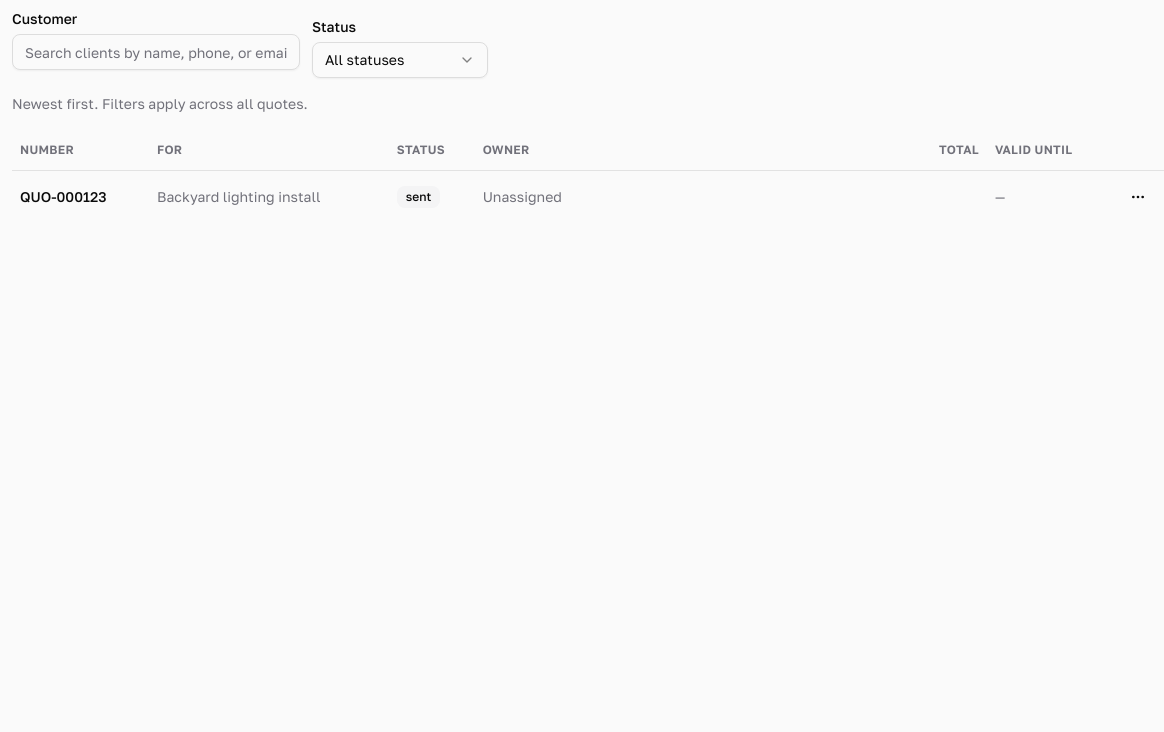
Test: QuotesList editing and deleting › offers edit and delete on a quote the customer already has
Expected: the button "QUO-000123" is shown, [20,186,106,206]
Click the button named "Actions". click: [1138, 196]
box: [1120,178,1156,214]
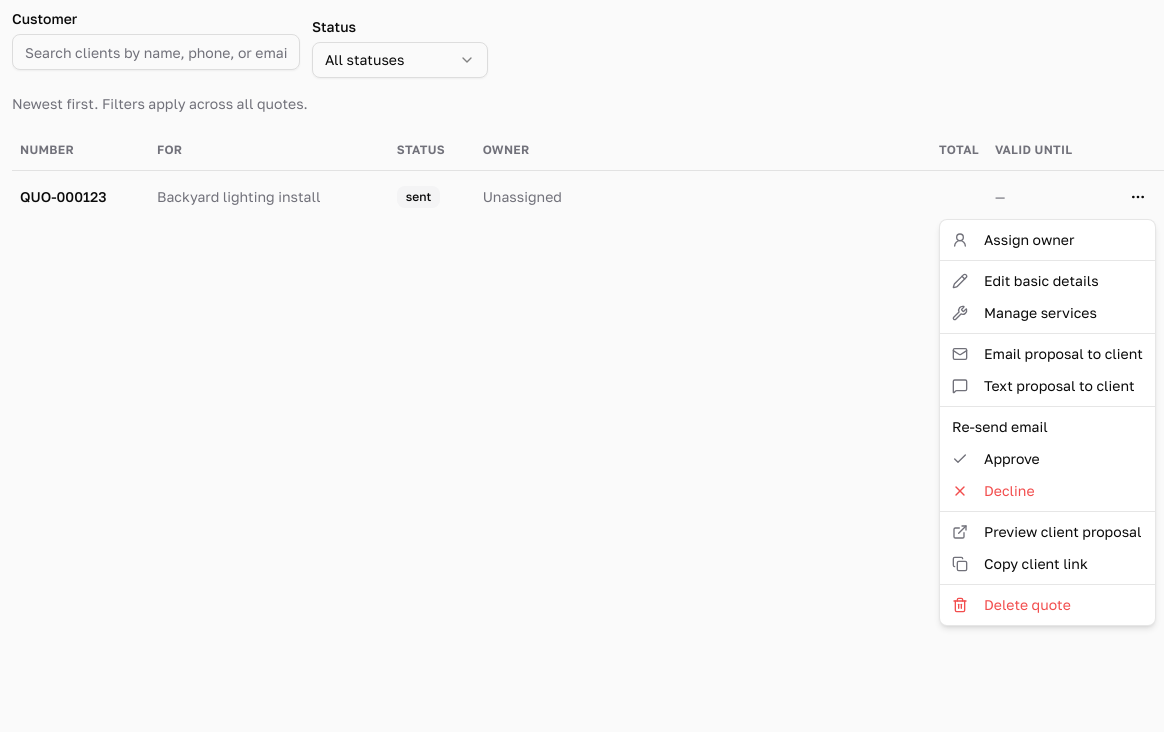
Expected: the menu item "Edit basic details" is shown, [952,272,1099,289]
Expected: the menu item "Delete quote" is shown, [952,596,1071,613]
